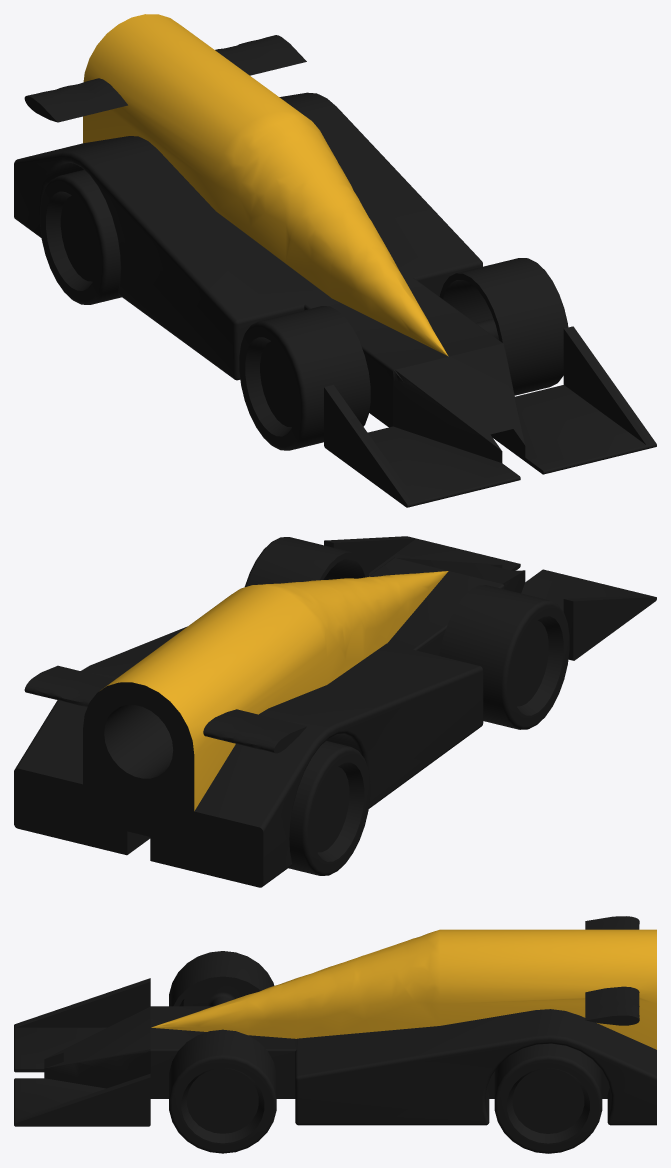
Rendered from regs23-car.glb.
3 renders of one model, top to bottom at view 1: azimuth 30°, elevation 25°; view 2: azimuth 150°, elevation 25°; view 3: azimuth 270°, elevation 25°, orthographic. The views are drawn at different scales.
Visible parts, largest first — view 1: Abomination 2; view 2: Abomination 2; view 3: Abomination 2.
Boxes of the visible parts, x1,y1,x2,y2 form: Abomination 2: [14, 14, 656, 507]; Abomination 2: [14, 536, 656, 887]; Abomination 2: [14, 916, 656, 1153].
Size of the model in its own units: 0.0698 by 0.051 by 0.1777.
